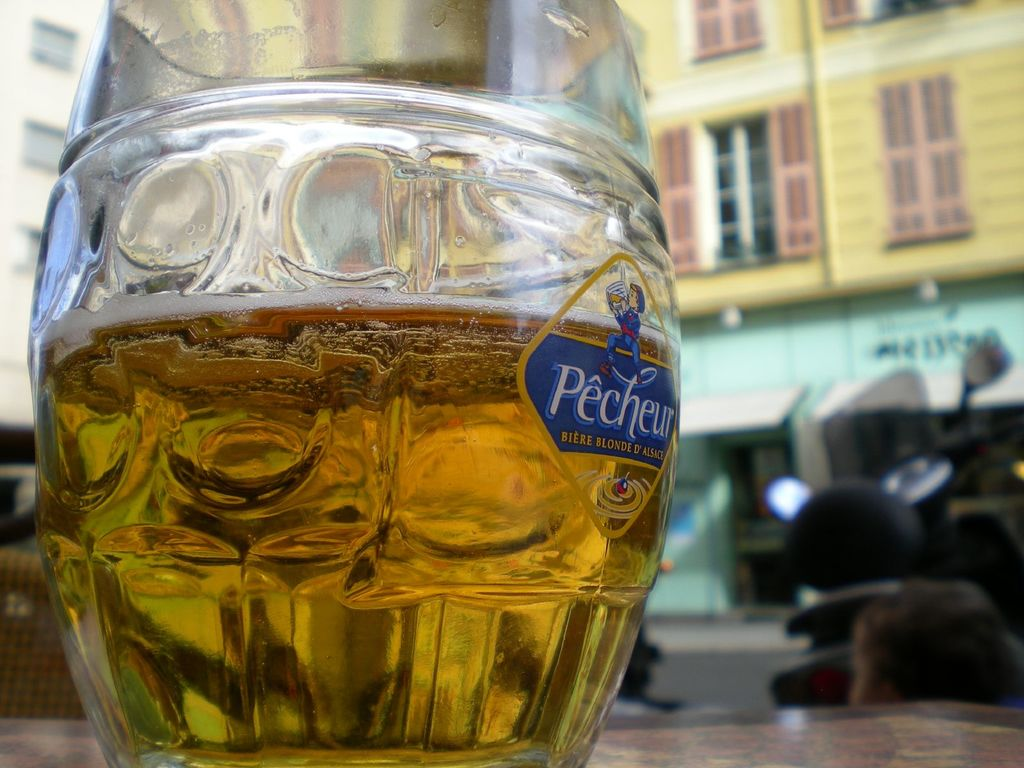Beer: (28, 291, 676, 767)
